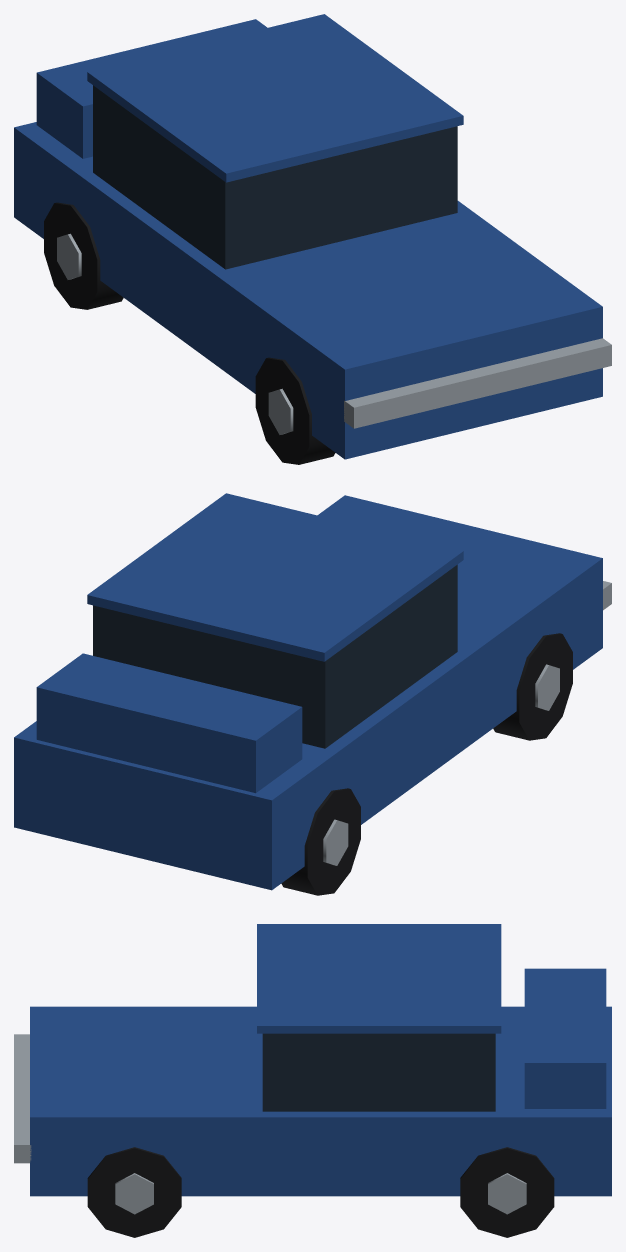
The model's file is veh_ground_car_a06.glb.
The picture shows the model from 3 angles, top to bottom: view 1: azimuth 30°, elevation 25°; view 2: azimuth 150°, elevation 25°; view 3: azimuth 270°, elevation 25°; orthographic projection. The views are drawn at different scales.
Parts seen in each view (by area): view 1: body, wheel_2, wheel_0; view 2: body, wheel_0, wheel_2; view 3: body, wheel_1, wheel_3.
Boxes of the visible parts, box(x1,y1,x2,y2) form: body: box(14, 14, 611, 459); wheel_2: box(255, 357, 335, 464); wheel_0: box(44, 202, 123, 309); body: box(14, 493, 611, 890); wheel_0: box(281, 788, 360, 895); wheel_2: box(493, 633, 572, 740); body: box(14, 924, 611, 1196); wheel_1: box(460, 1147, 554, 1237); wheel_3: box(87, 1147, 181, 1237).
Size of what is drawn, in the model's own units: 1.88 by 1.57 by 4.11.
